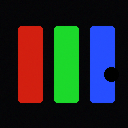2 circle: (104, 67, 118, 81)
